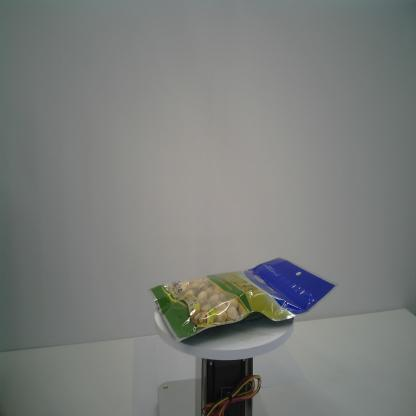Dried Fruit: (145, 254, 338, 343)
